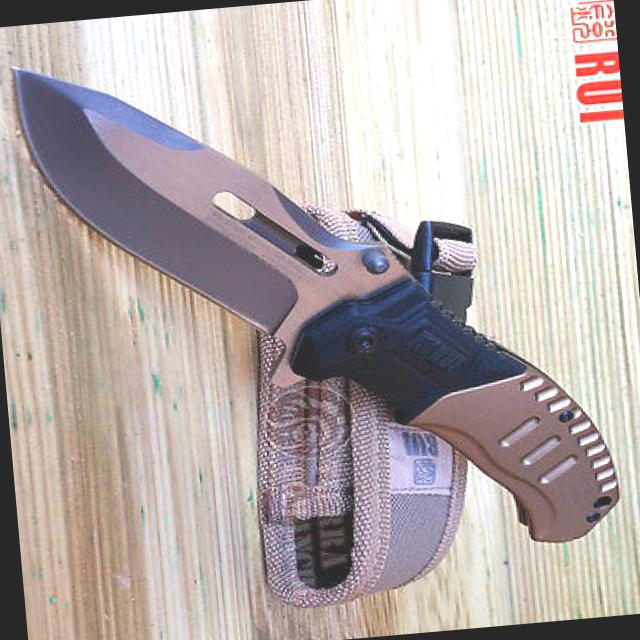knife: (0, 19, 423, 366)
